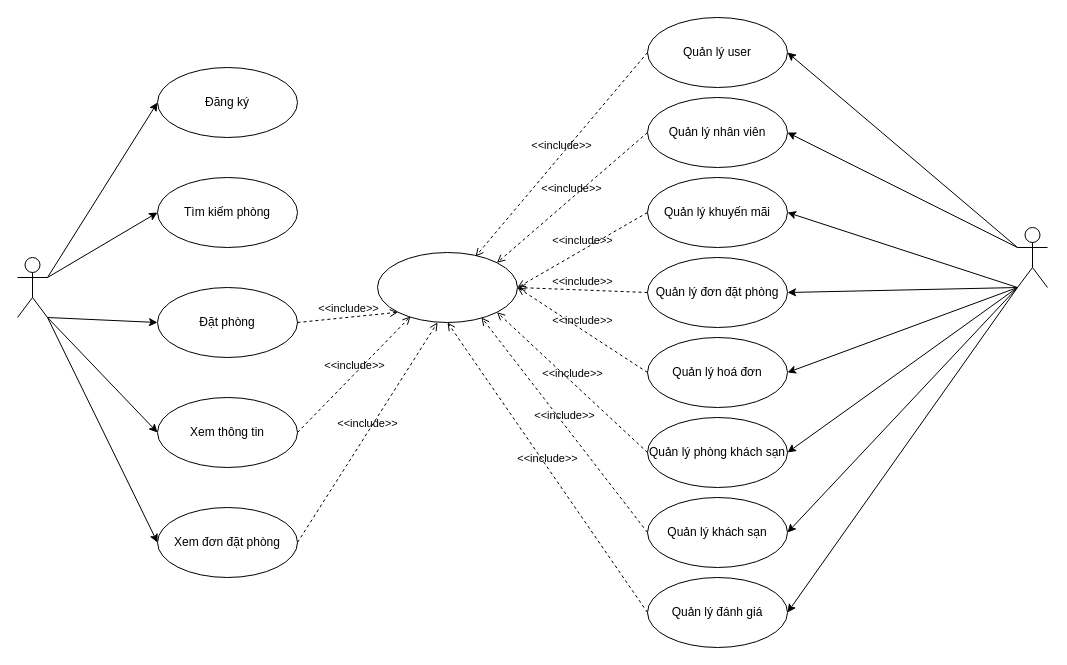
Some shapes in this 1067 by 665 pixel diagram are drawn without their labels. The box of each missing label's shape, as (x1, y1, x2, y2) in pixels:
Admin: (1016, 226, 1048, 288)
User: (16, 256, 48, 318)
Đăng nhập: (376, 252, 518, 322)
